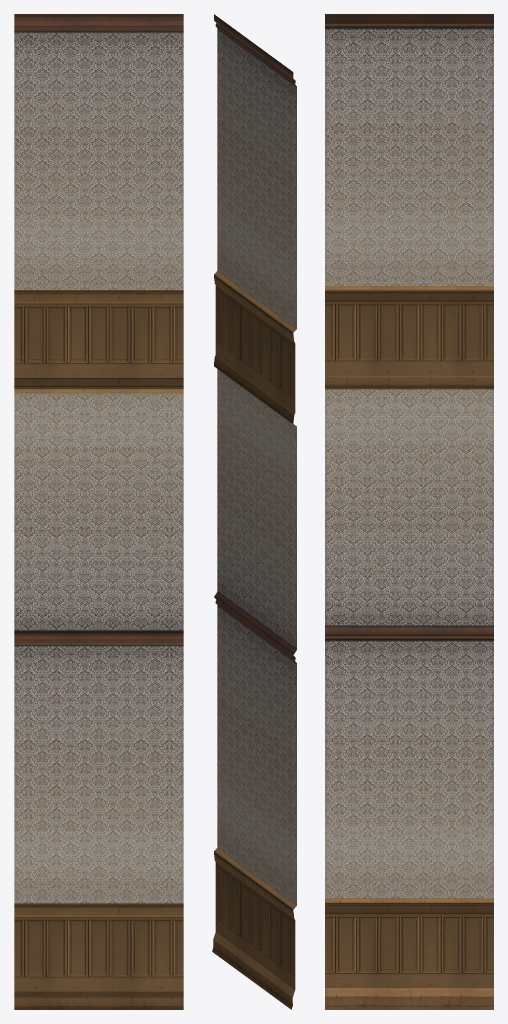
Rendered from 13m_wall.fbx.
3 renders of one model, left to right at view 1: azimuth 90°, elevation 25°; view 2: azimuth 210°, elevation 25°; view 3: azimuth 270°, elevation 25°, orthographic. The views are drawn at different scales.
Parts seen in each view (by area): view 1: wall_13m; view 2: wall_13m; view 3: wall_13m.
Boxes of the visible parts, x1,y1,x2,y2 form: wall_13m: [14, 14, 183, 1009]; wall_13m: [212, 14, 296, 1009]; wall_13m: [325, 14, 493, 1009].
Bounding box in the file's own units: 7.64 × 1300 × 200.
1 material, 1 textured.
